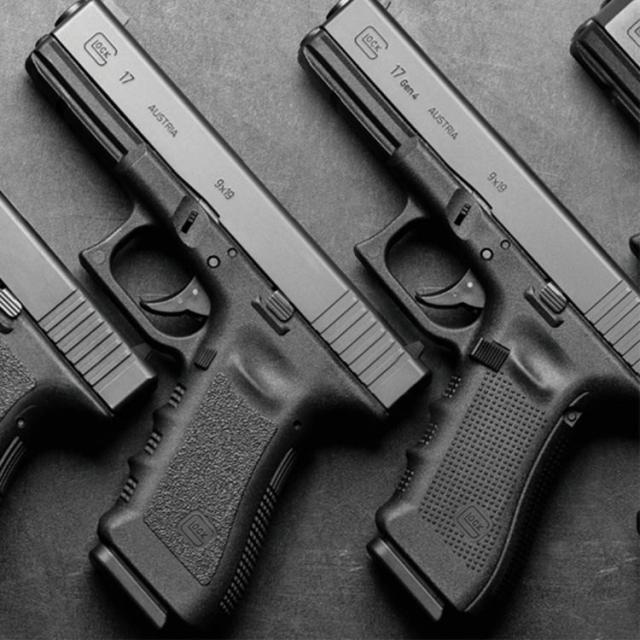Pistol: (20, 0, 418, 640), (277, 7, 640, 637)
